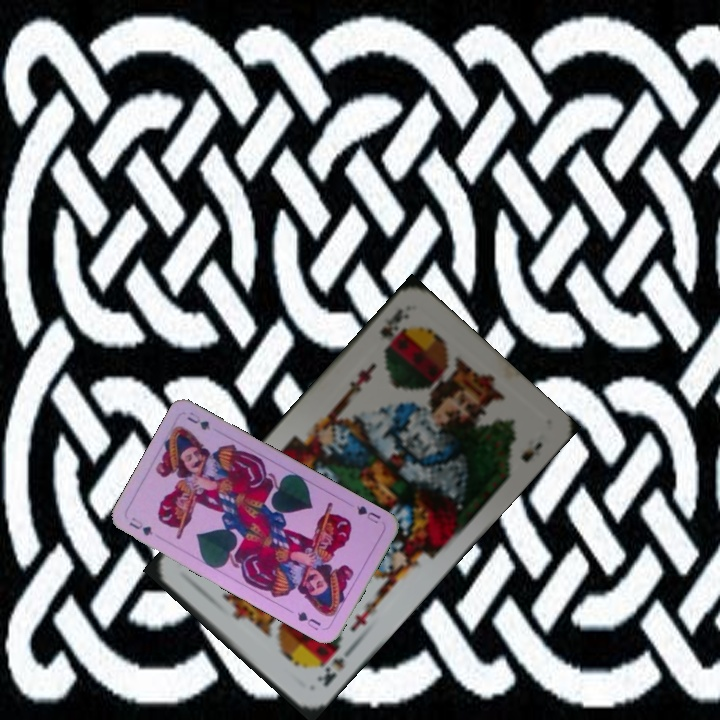GU: (125, 513, 155, 539), (353, 501, 383, 526)
SK: (312, 642, 356, 690), (375, 304, 412, 354)
